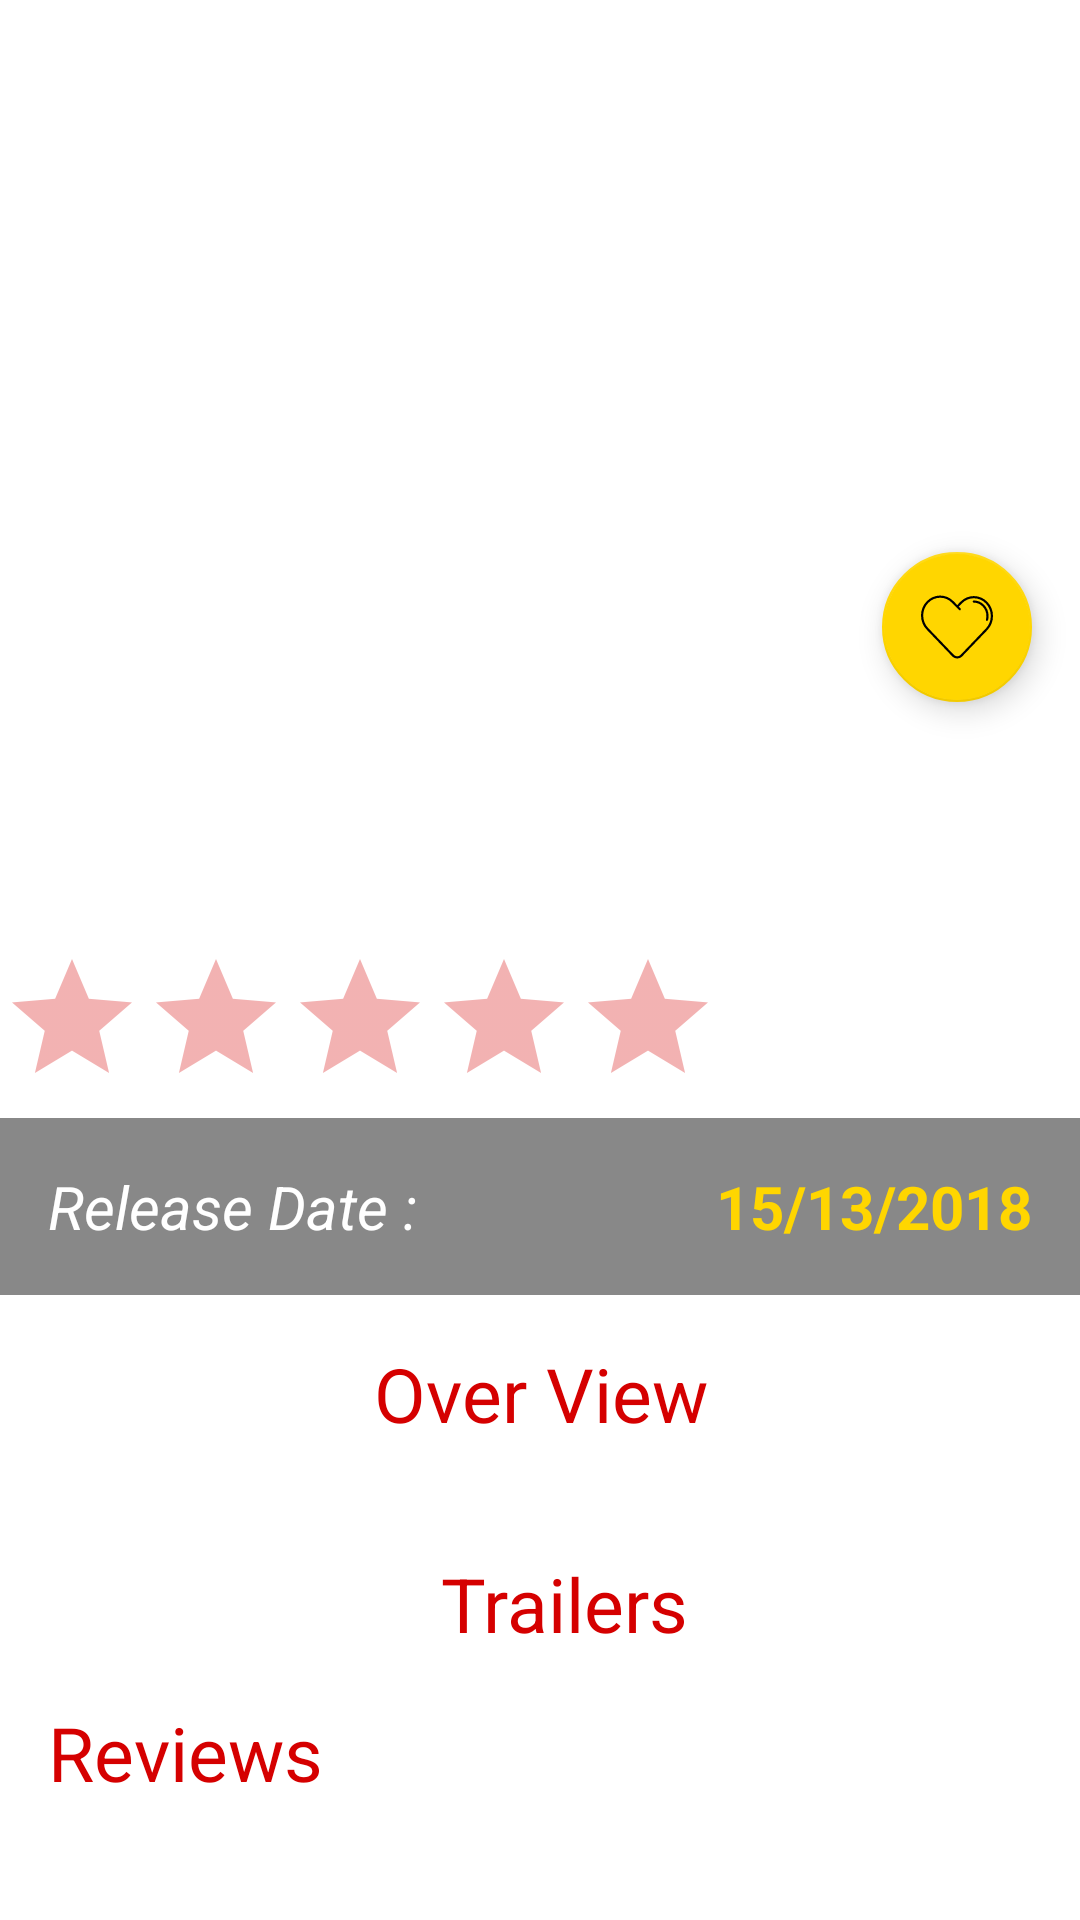

Icon click points for this 1080*1920 phone screenshot, format (x=x, y=y):
favorite: (x=957, y=627)
